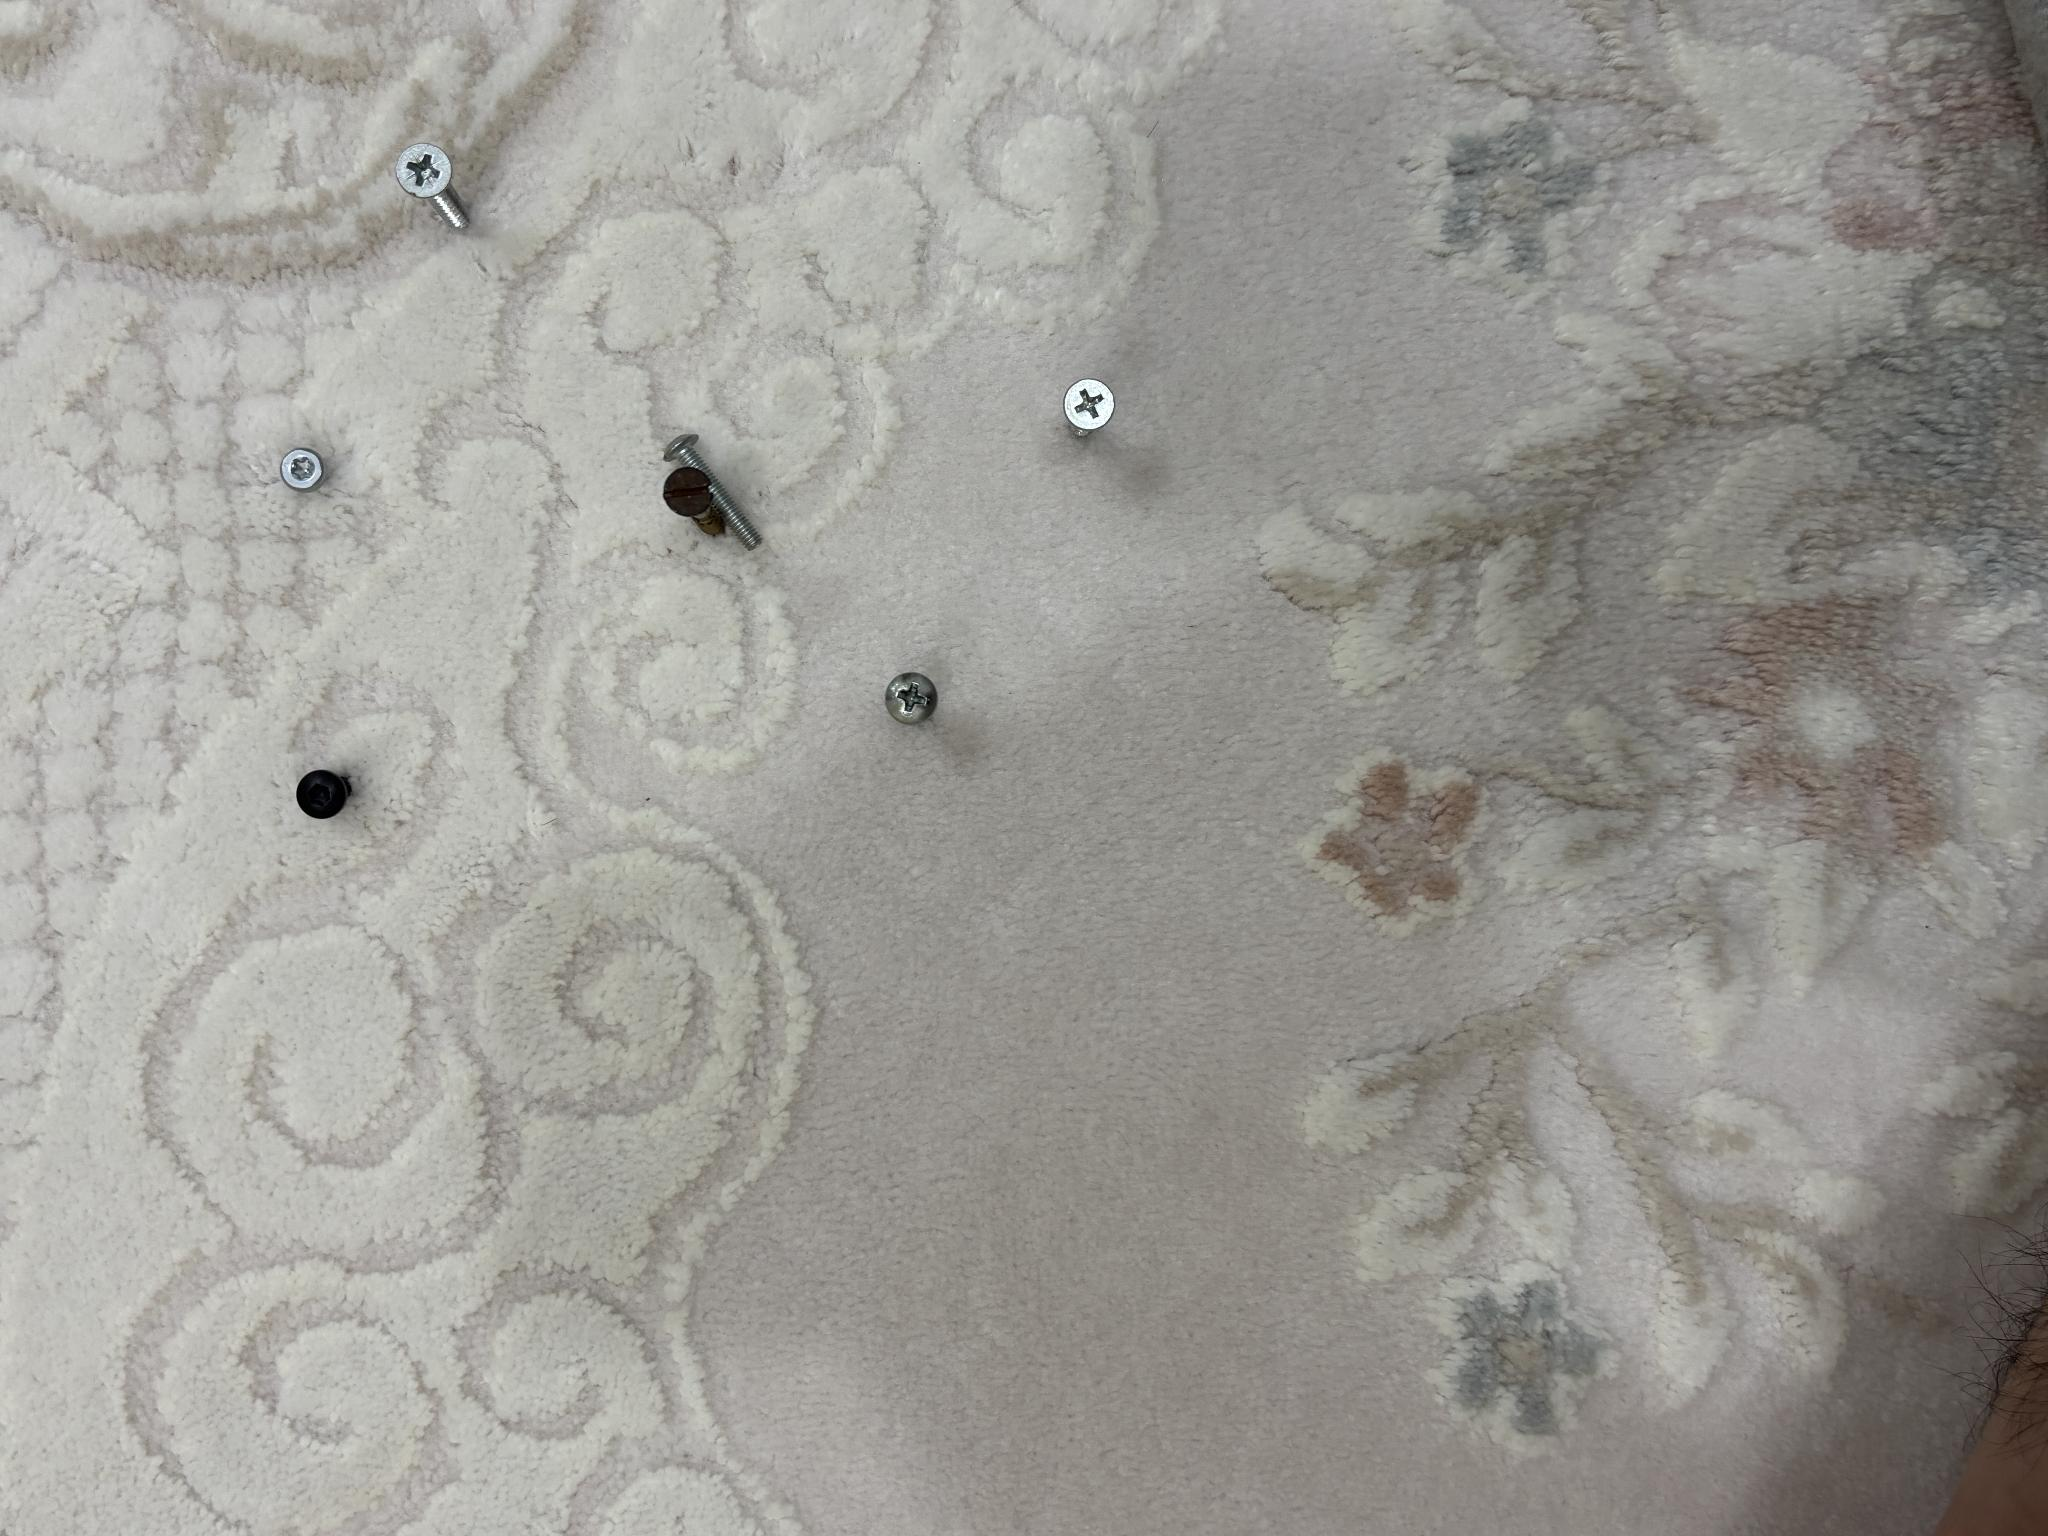H: (1043, 279, 1089, 326)
PH: (1100, 1062, 1156, 1115), (813, 884, 863, 937)
PZ: (1306, 394, 1393, 470)
SL: (1000, 663, 1069, 724)
T: (716, 297, 766, 352)
